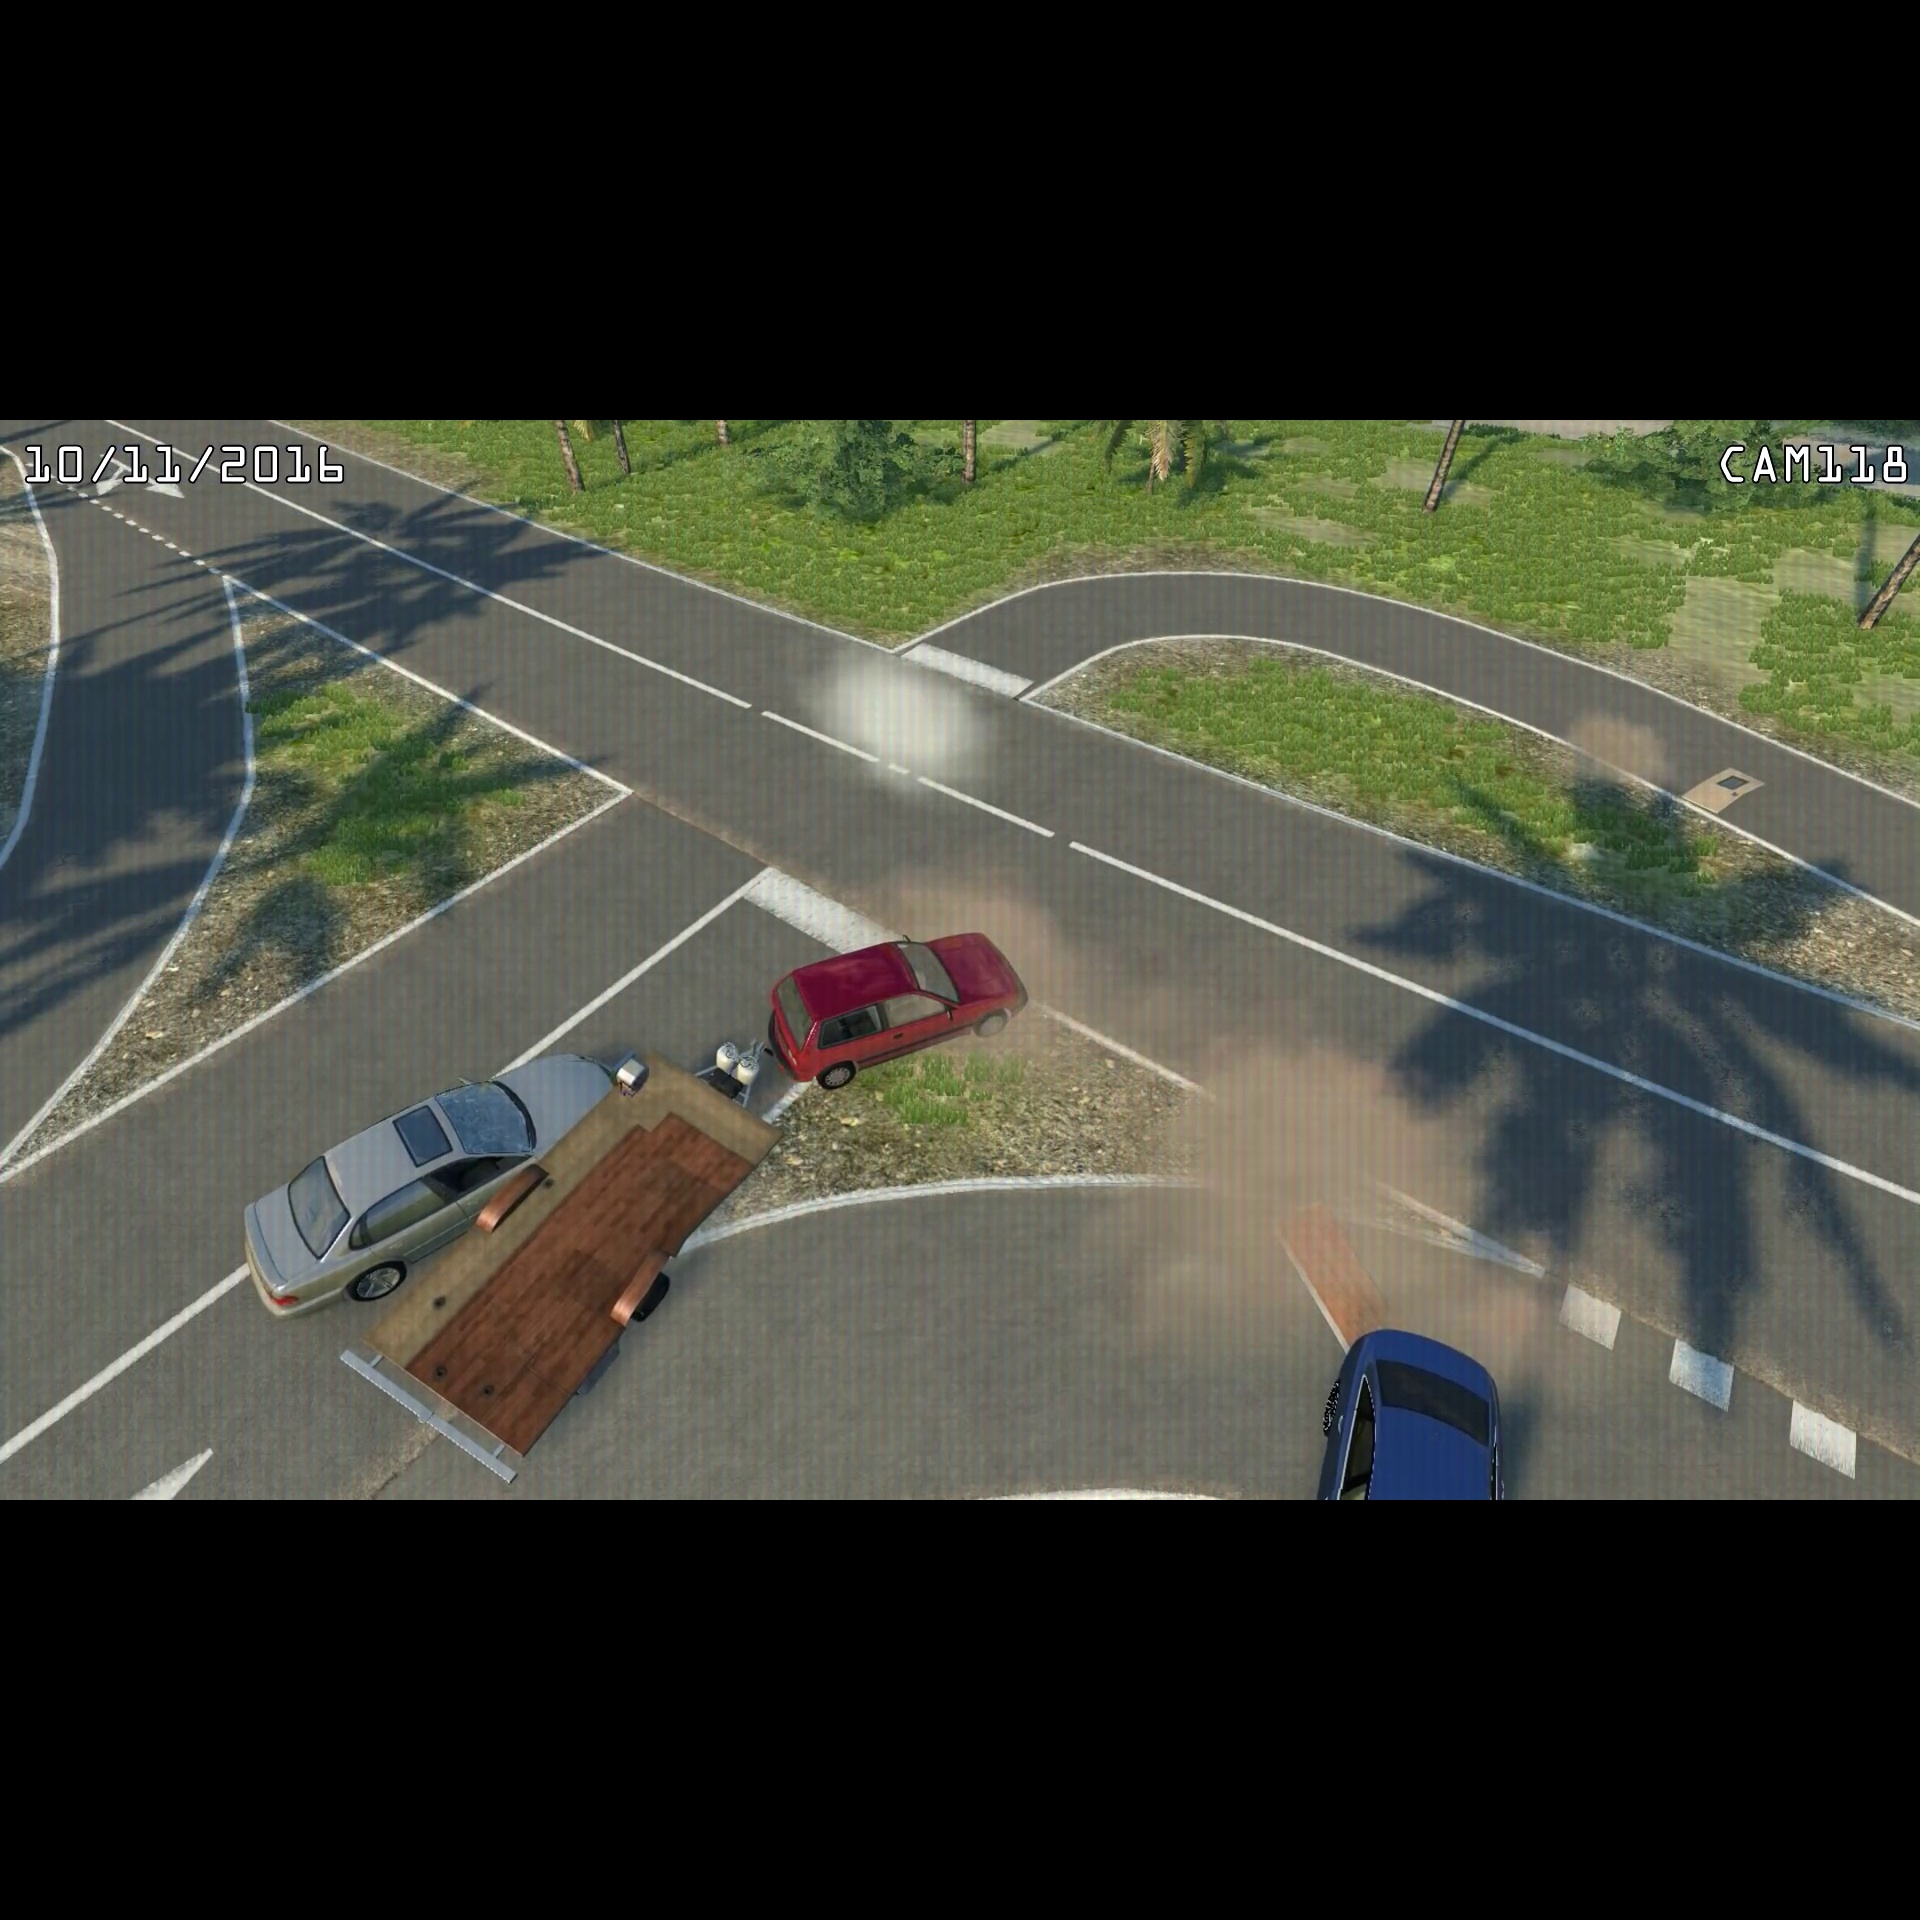vehicle: (236, 1036, 631, 1324), (765, 920, 1039, 1095), (1306, 1315, 1512, 1502)
